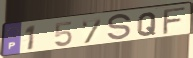1: (22, 24, 38, 52)
5: (53, 20, 74, 48)
7: (81, 17, 104, 45)
F: (162, 5, 189, 36)
Q: (136, 11, 159, 37)
S: (106, 13, 133, 43)
